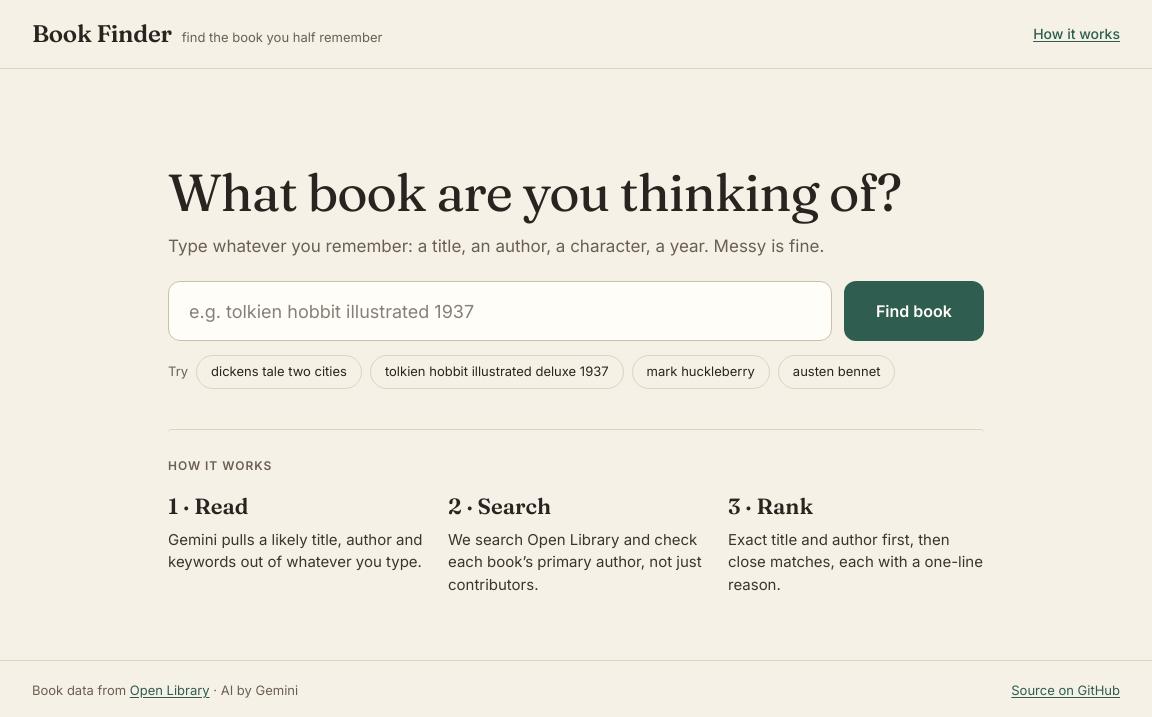
App › validates empty input inline without calling the API
Click the button "Find book" at (914, 311), box [844,281,984,341]
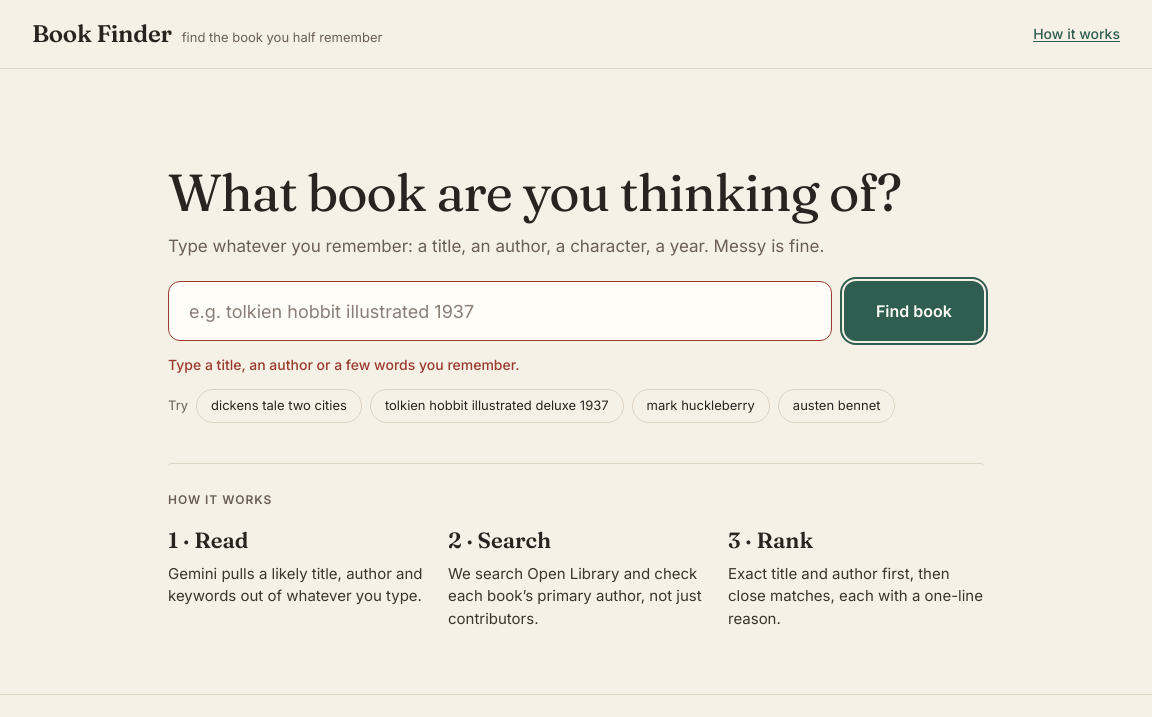
expect the message reads "Type a title, an author or a few words you remember.": met, box [168,356,520,373]
